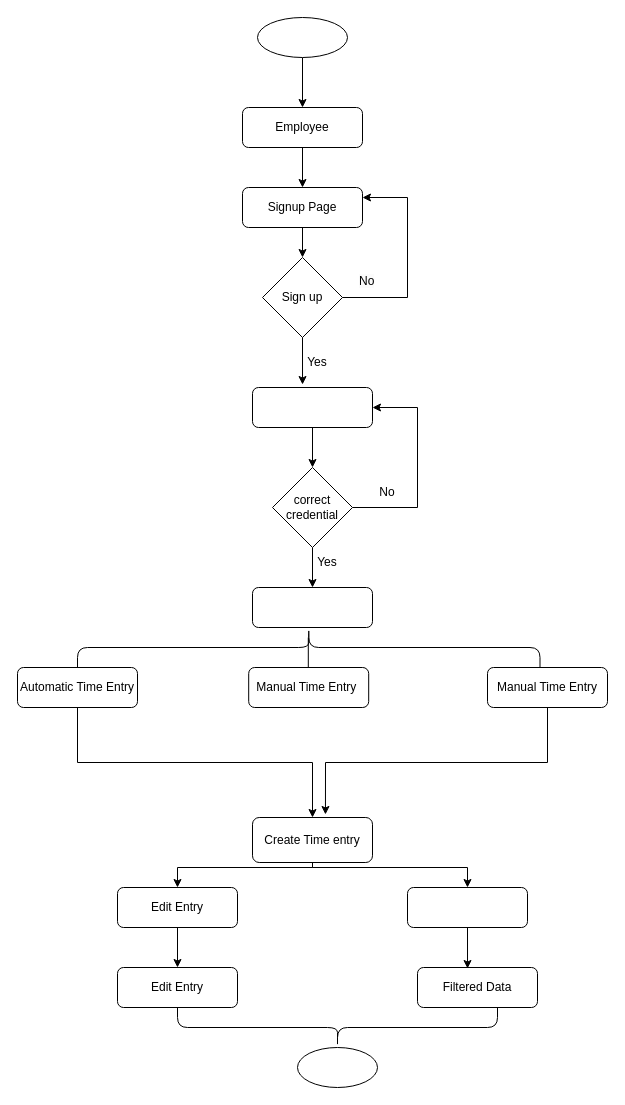
The diagram is 625 pixels wide and 1105 high, and some of its shapes have lost their labels. The shapes that lost their labels are listed below. From the top down, each one's box as (x1, y1, x2, y2) in pixels, then its label:
(256, 16, 348, 58): Start
(252, 386, 372, 428): Login Page
(252, 586, 372, 628): Dashboard
(406, 886, 528, 928): Date Filter on Time entry
(296, 1046, 378, 1088): End
